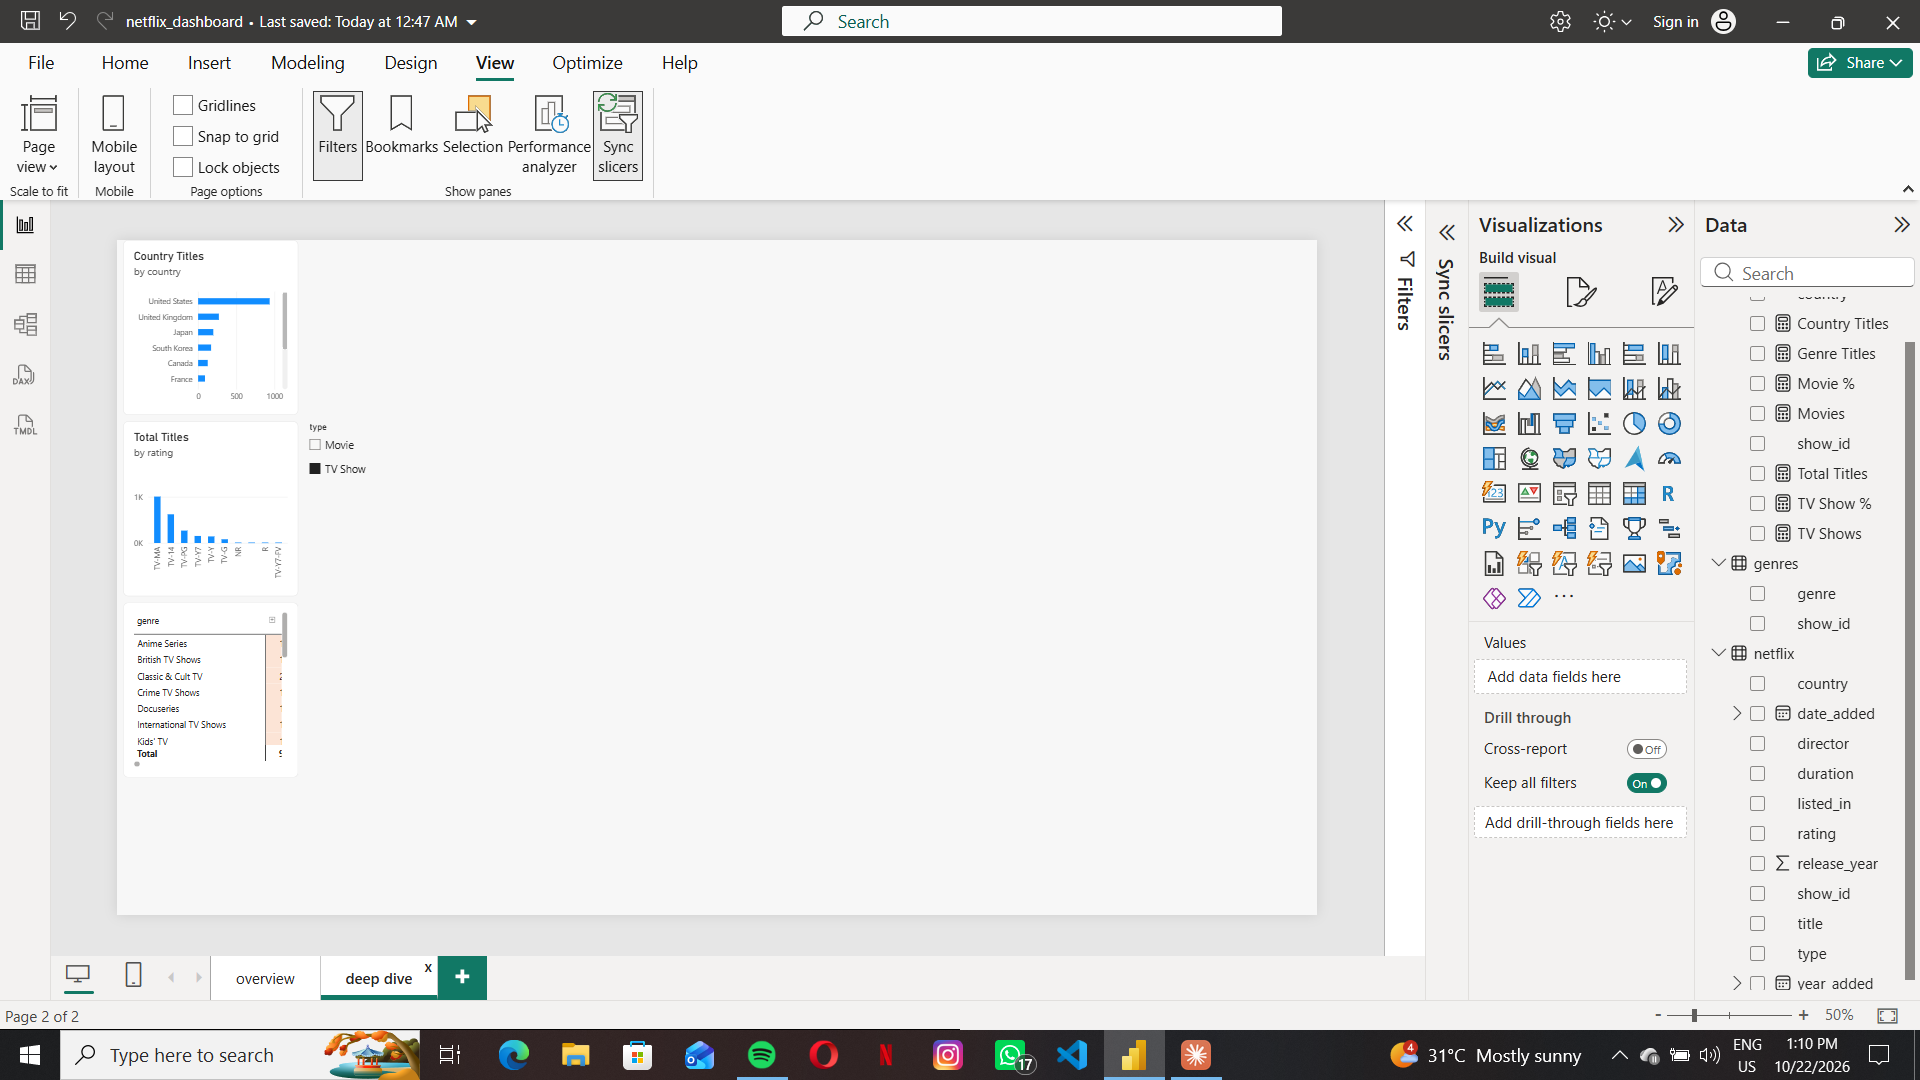

The page's visual inventory and layout, read from the dashboard file:
{"tool":"powerbi","page":{"name":"deep dive","canvas":[1920,1080],"ordinal":1},"visuals":[{"type":"clusteredBarChart","fields":{"Category":["countries.country"],"Y":["countries.Country Titles"]},"box":[10,0,280,280],"z":0},{"type":"clusteredColumnChart","fields":{"Category":["netflix.rating"],"Y":["countries.Total Titles"]},"box":[10,290,280,280],"z":1},{"type":"pivotTable","fields":{"Columns":["netflix.year_added.Variation.Date Hierarchy.Year","netflix.year_added.Variation.Date Hierarchy.Quarter","netflix.year_added.Variation.Date Hierarchy.Month","netflix.year_added.Variation.Date Hierarchy.Day"],"Rows":["genres.genre"],"Values":["countries.Genre Titles"]},"box":[10,580,280,280],"z":2},{"type":"slicer","fields":{"Values":["netflix.type"]},"box":[300,290,280,280],"z":3}]}

Visuals, with their boxes on the page's 1920x1080 design canvas (x1, y1, x2, y2). These are canvas units, not pixel positions in the 1920x1080 screenshot, which may show the page scaled, cropped or inside an application window:
clusteredBarChart - countries.country x countries.Country Titles: left=10, top=0, right=290, bottom=280
clusteredColumnChart - netflix.rating x countries.Total Titles: left=10, top=290, right=290, bottom=570
pivotTable - netflix.year_added.Variation.Date Hierarchy.Year x netflix.year_added.Variation.Date Hierarchy.Quarter: left=10, top=580, right=290, bottom=860
slicer - netflix.type: left=300, top=290, right=580, bottom=570
